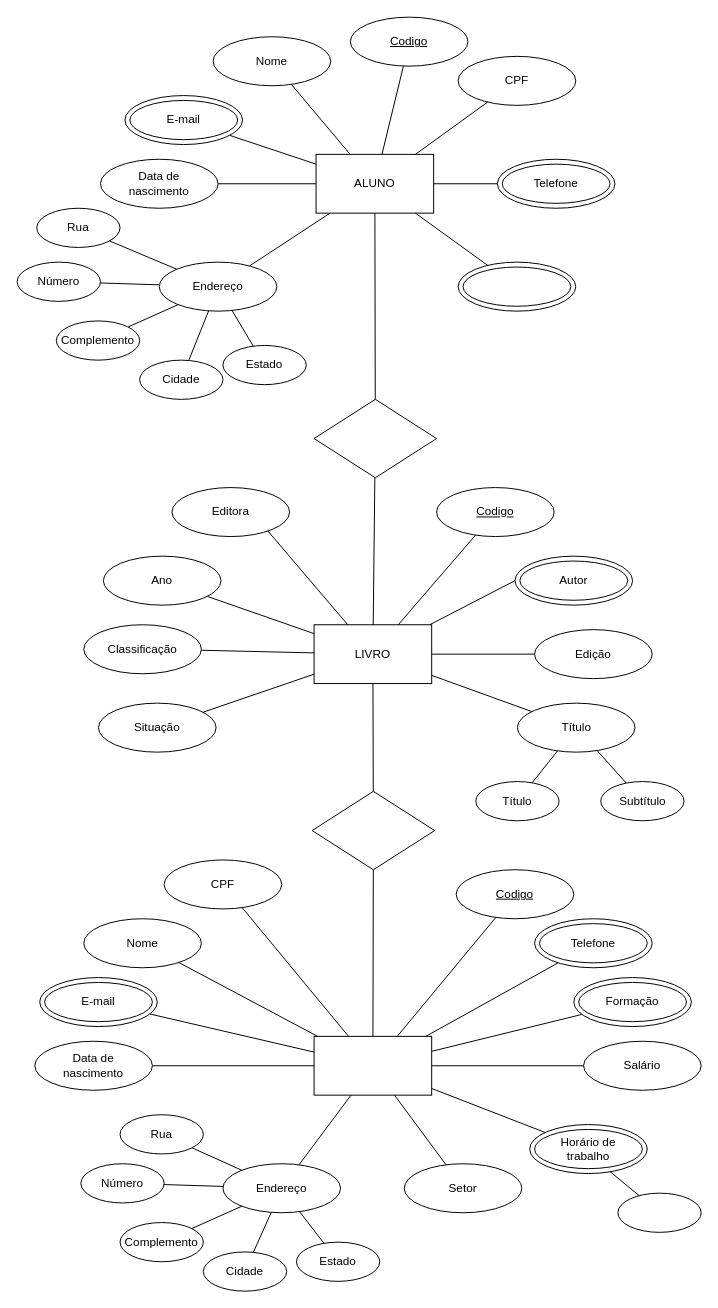
This 718x1308 diagram has some shape labels left out. Here are the shapes that lost their labels. From the top down, the centre of each, then its label:
At pixel 516 286: "Curso".
At pixel 375 438: "Retirar".
At pixel 373 830: "Emprestar".
At pixel 372 1065: "BALCONISTA".
At pixel 659 1212: "Dia da semana".
